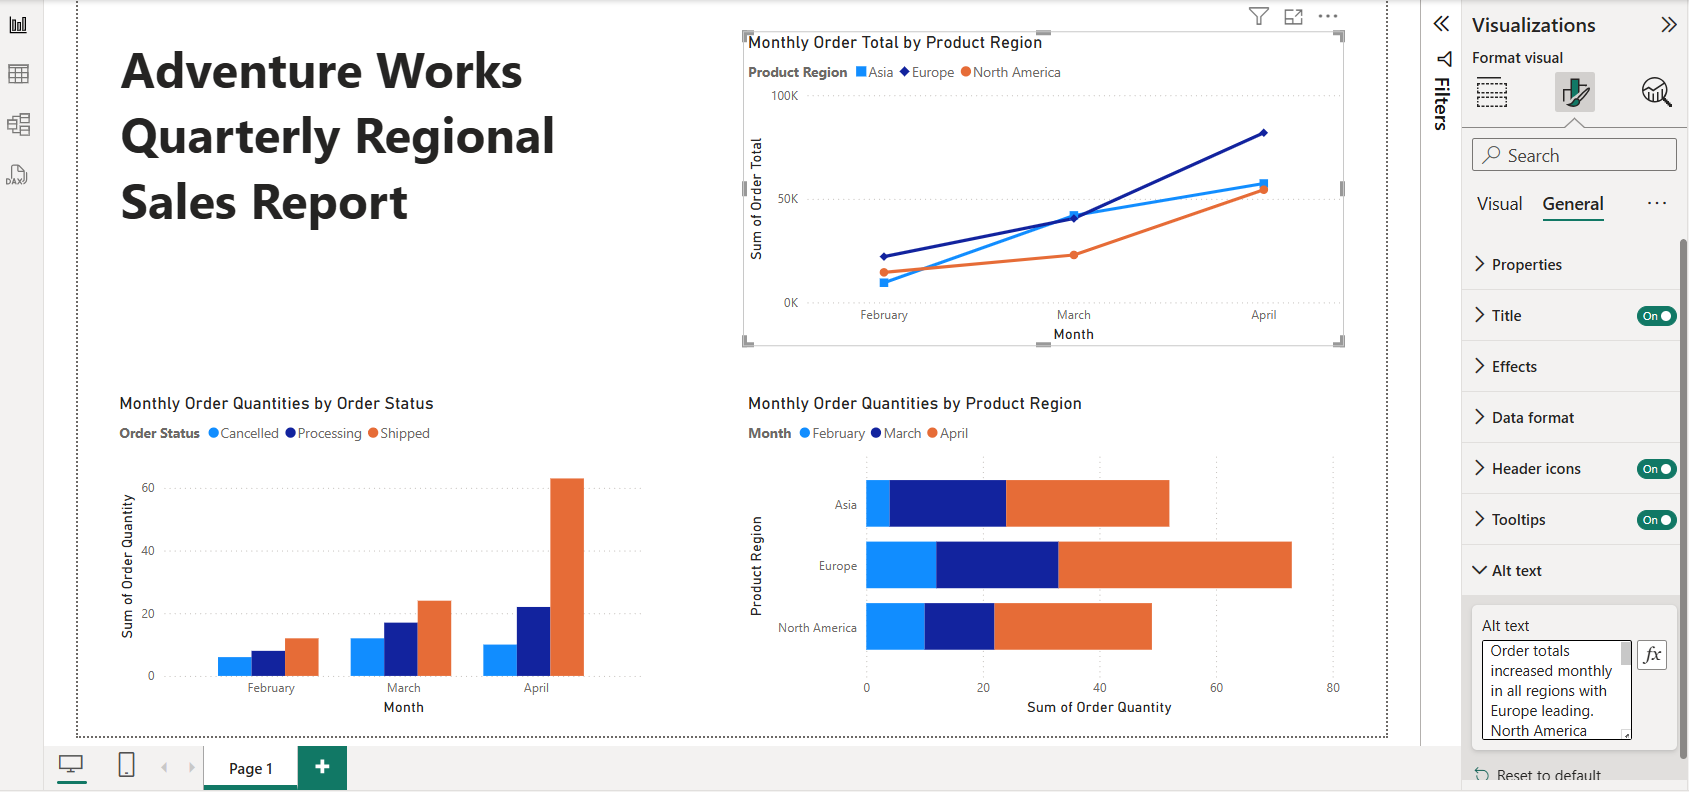

The dashboard page shown, as its layout file describes it:
{"tool":"powerbi","page":{"name":"Page 1","canvas":[1280,720],"ordinal":0},"visuals":[{"type":"barChart","title":"Monthly Order Quantities by Product Region","fields":{"Category":["Sales.Product Region"],"Y":["Sum(Sales.Order Quantity)"],"Series":["Sales.Order Date.Variation.Date Hierarchy.Month"]},"box":[650,384,589,321],"z":3000},{"type":"clusteredColumnChart","title":"Monthly Order Quantities by Order Status","fields":{"Category":["Sales.Month"],"Y":["Sum(Sales.Order Quantity)"],"Series":["Sales.Order Status"]},"box":[36,384,522,321],"z":3125},{"type":"lineChart","title":"Monthly Order Total by Product Region","fields":{"Category":["Sales.Month"],"Y":["Sum(Sales.Order Total)"],"Series":["Sales.Product Region"]},"box":[650,30,589,309],"z":3250},{"type":"textbox","box":[36.2,29.8,522.2,309.5],"z":3500}]}

Visuals, with their boxes on the page's 1280x720 design canvas (x1, y1, x2, y2). These are canvas units, not pixel positions in the 1689x792 screenshot, which may show the page scaled, cropped or inside an application window:
"Monthly Order Quantities by Product Region" barChart: bbox(650, 384, 1239, 705)
"Monthly Order Quantities by Order Status" clusteredColumnChart: bbox(36, 384, 558, 705)
"Monthly Order Total by Product Region" lineChart: bbox(650, 30, 1239, 339)
textbox: bbox(36, 30, 558, 339)
